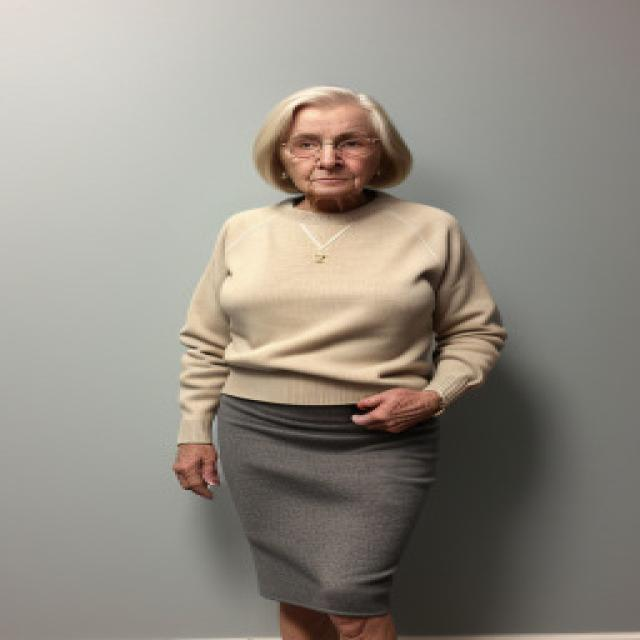Ai human 2: (155, 81, 522, 640)
